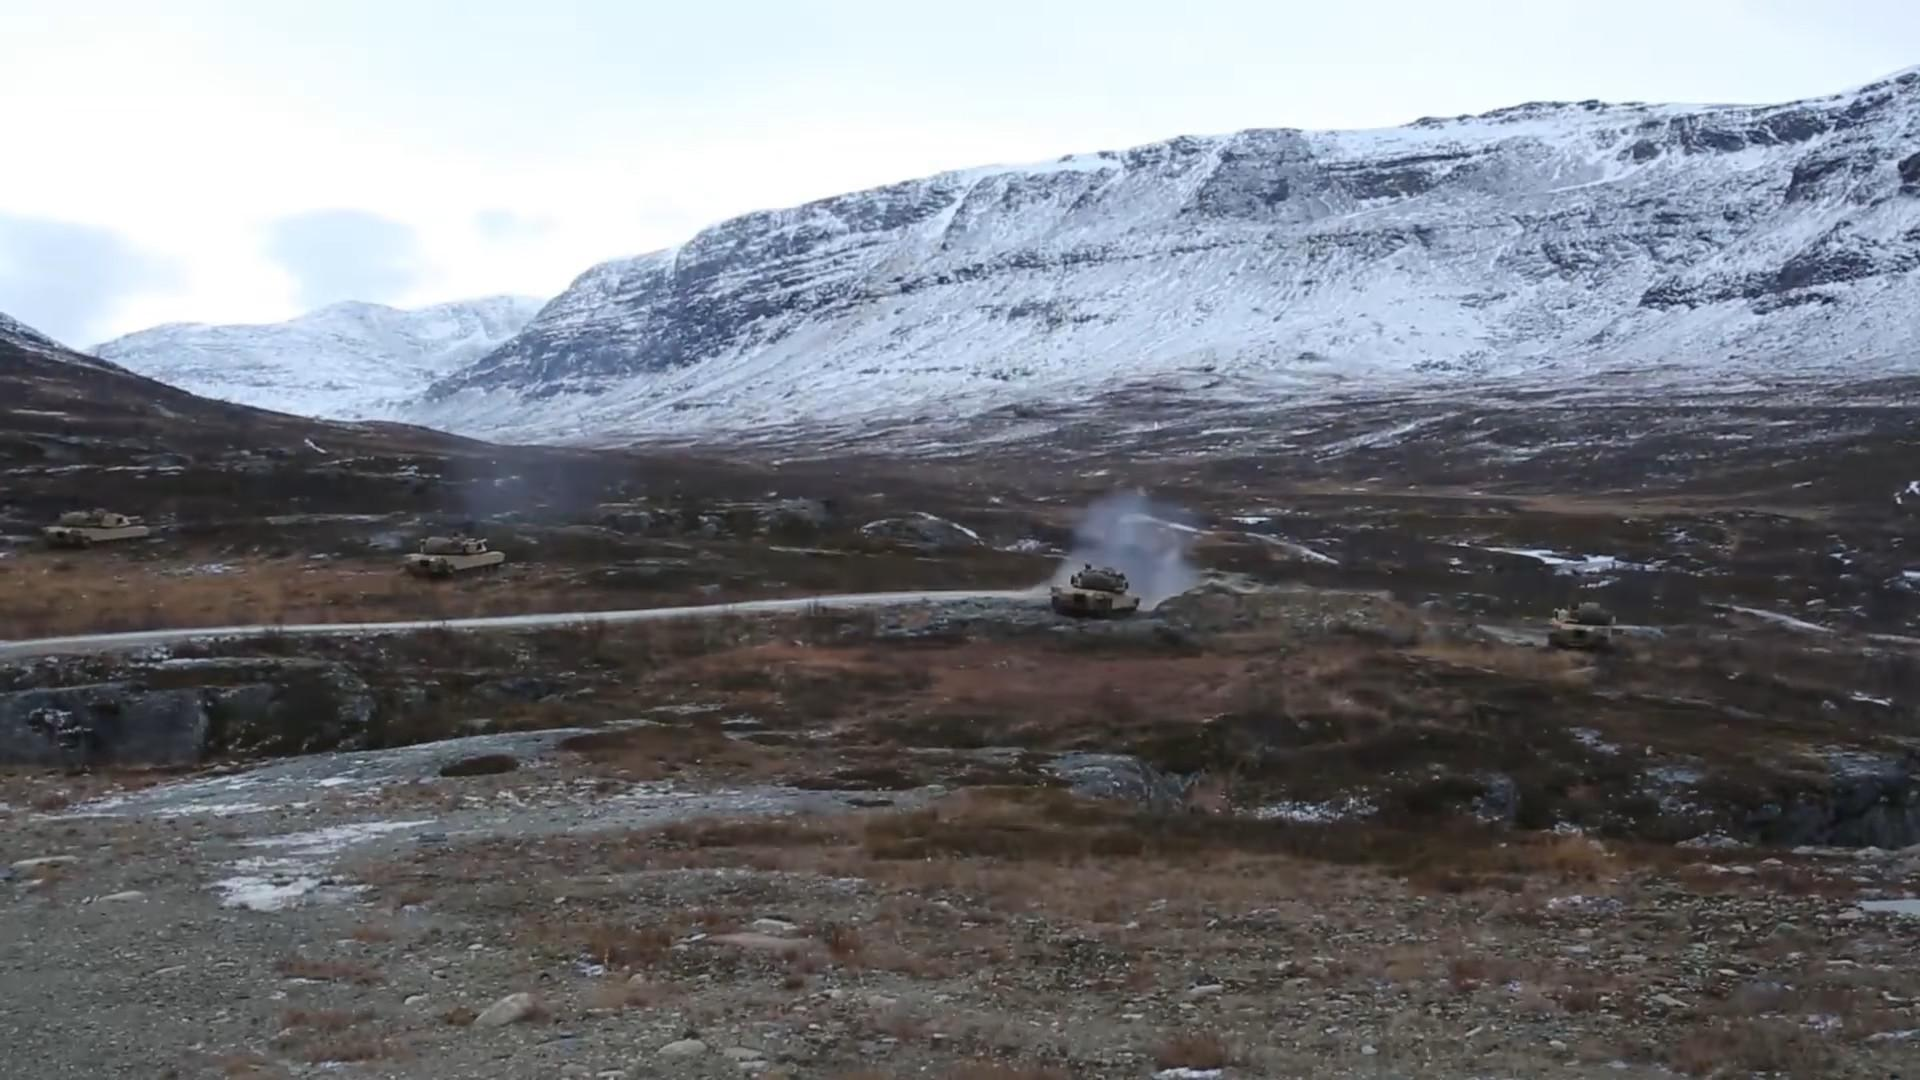tank: (1051, 563, 1142, 620), (404, 534, 505, 580), (44, 508, 148, 550)
